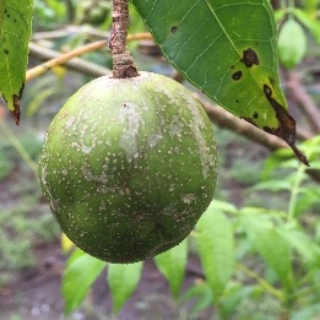coc: (39, 72, 216, 264)
